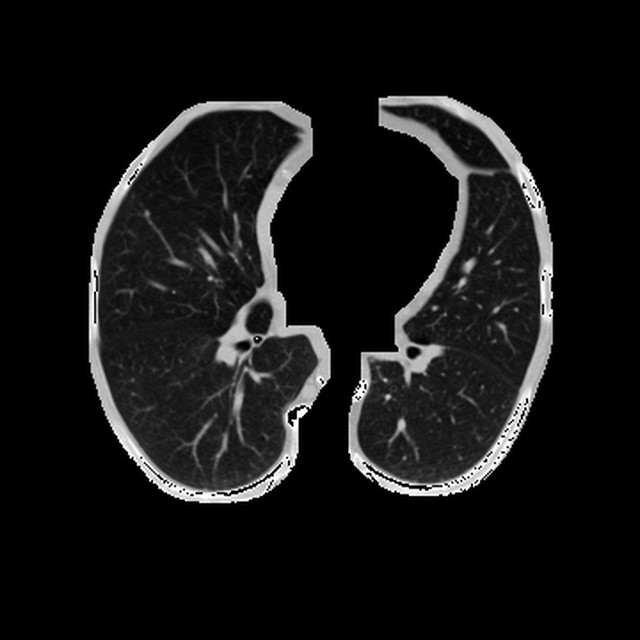PN: (142, 210, 149, 217)
